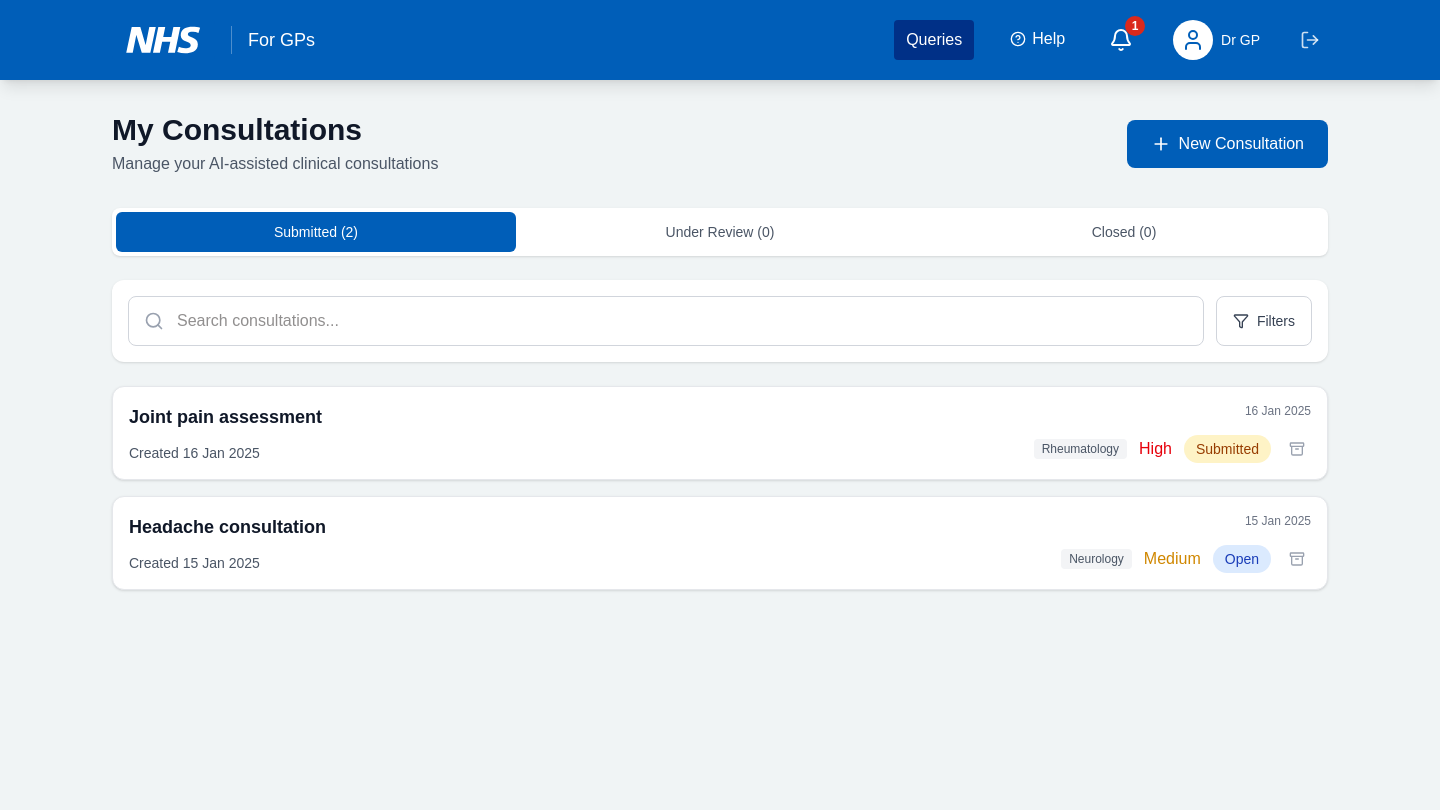
Scenario: GPQueriesPage › shows filter panel when Filters button is clicked
Expected: the heading "Headache consultation" is shown, x1=129 y1=517 x2=326 y2=537
# Click the Filters button
Click the button with aria-label "Toggle filters": (1264, 321) x1=1216 y1=296 x2=1312 y2=346
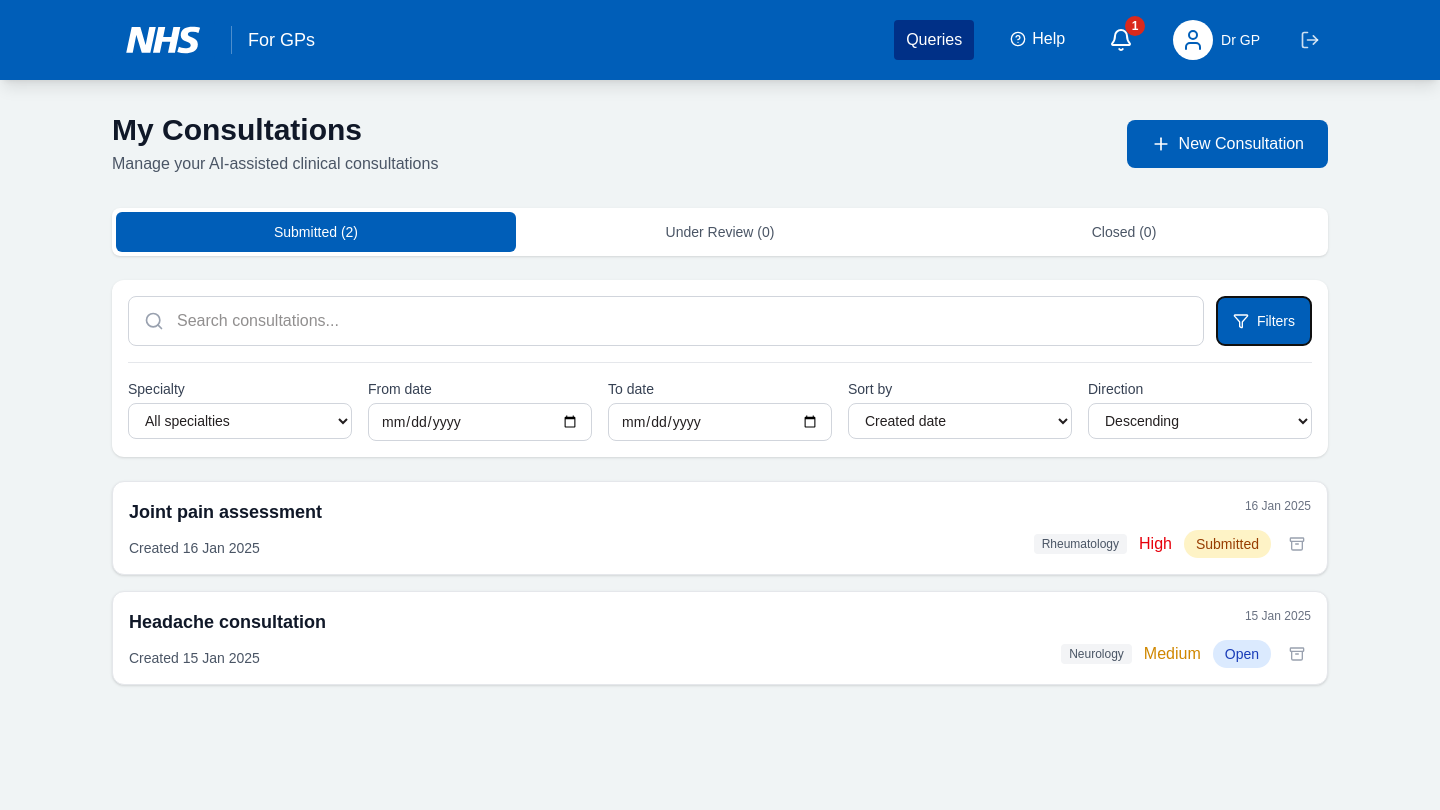
Expected: the dropdown labelled "Specialty" is shown, x1=128 y1=403 x2=352 y2=439
Expected: the date field labelled "From date" is shown, x1=368 y1=403 x2=592 y2=441
Expected: the date field labelled "To date" is shown, x1=608 y1=403 x2=832 y2=441
